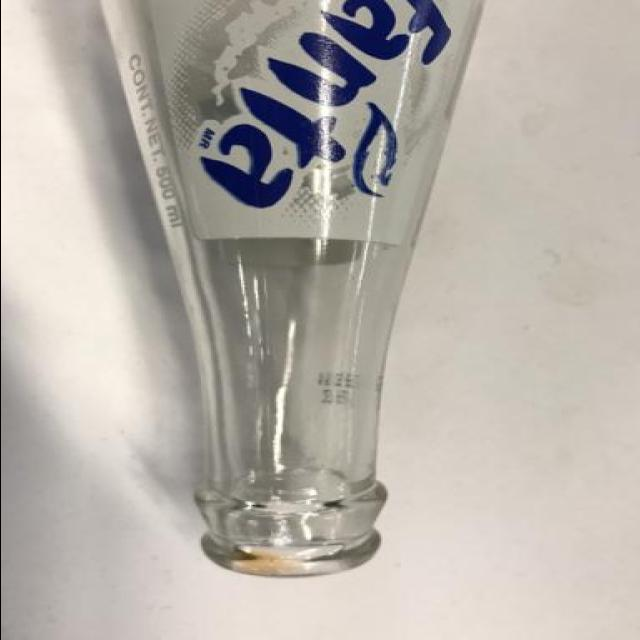litter: (96, 0, 492, 580)
